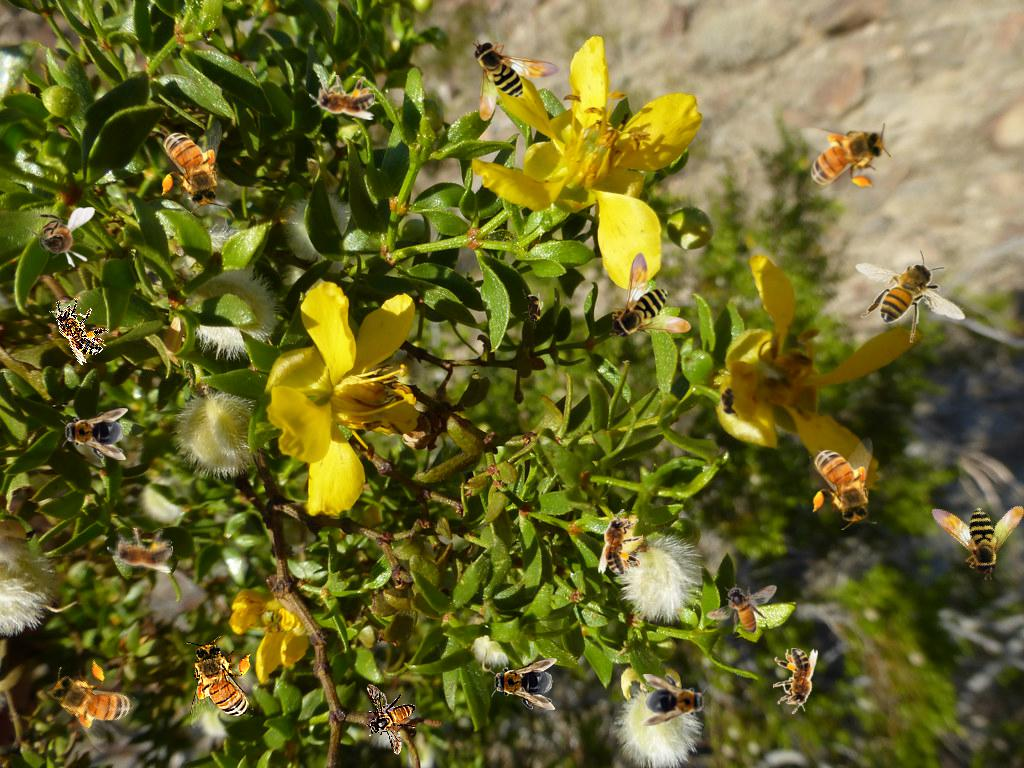Bee: (35, 644, 149, 759), (914, 466, 1024, 584), (855, 249, 966, 343), (472, 39, 560, 121), (609, 252, 691, 340), (798, 123, 891, 191), (809, 437, 877, 530), (158, 120, 226, 213), (186, 636, 254, 729), (39, 287, 117, 368), (25, 207, 95, 268), (706, 584, 777, 634), (366, 684, 416, 755), (641, 674, 709, 726), (489, 658, 557, 710), (60, 408, 128, 460), (773, 648, 818, 714), (107, 528, 173, 573), (598, 509, 643, 575), (309, 75, 375, 120), (718, 381, 740, 421), (522, 289, 544, 329)
